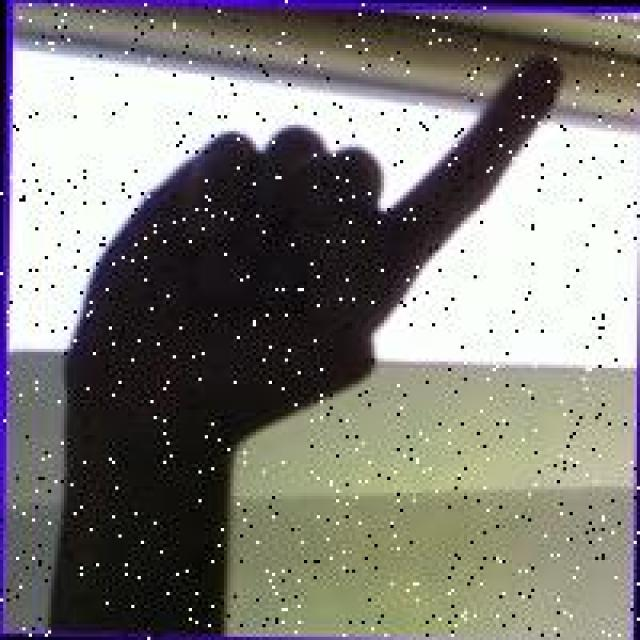Z: (62, 41, 565, 476)
